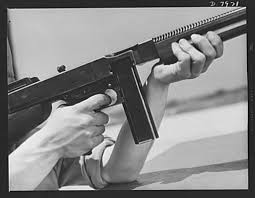gun: (7, 8, 246, 151)
